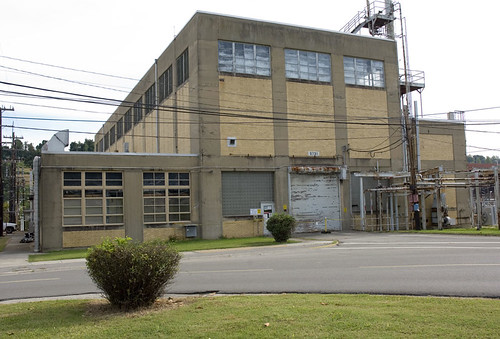building: (45, 34, 456, 248)
sky: (1, 3, 156, 128), (411, 1, 500, 116)
street: (1, 233, 500, 289)
